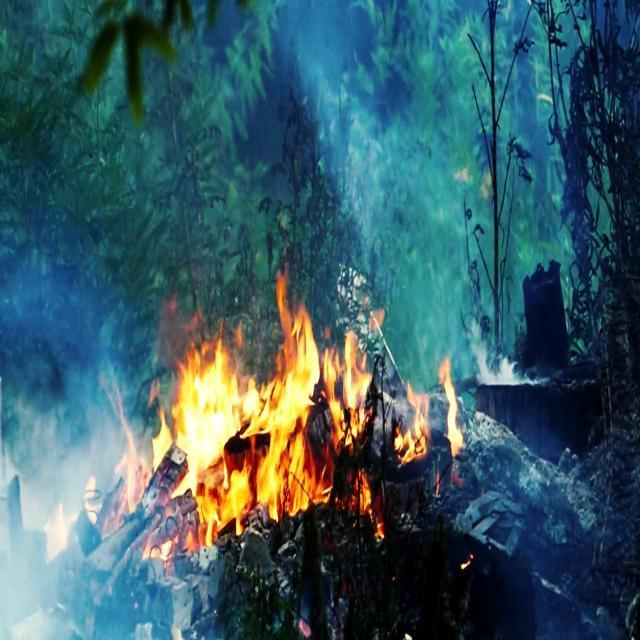Fire: (130, 291, 372, 564), (328, 306, 470, 497)
Smoke: (290, 12, 534, 376), (0, 195, 152, 640)
